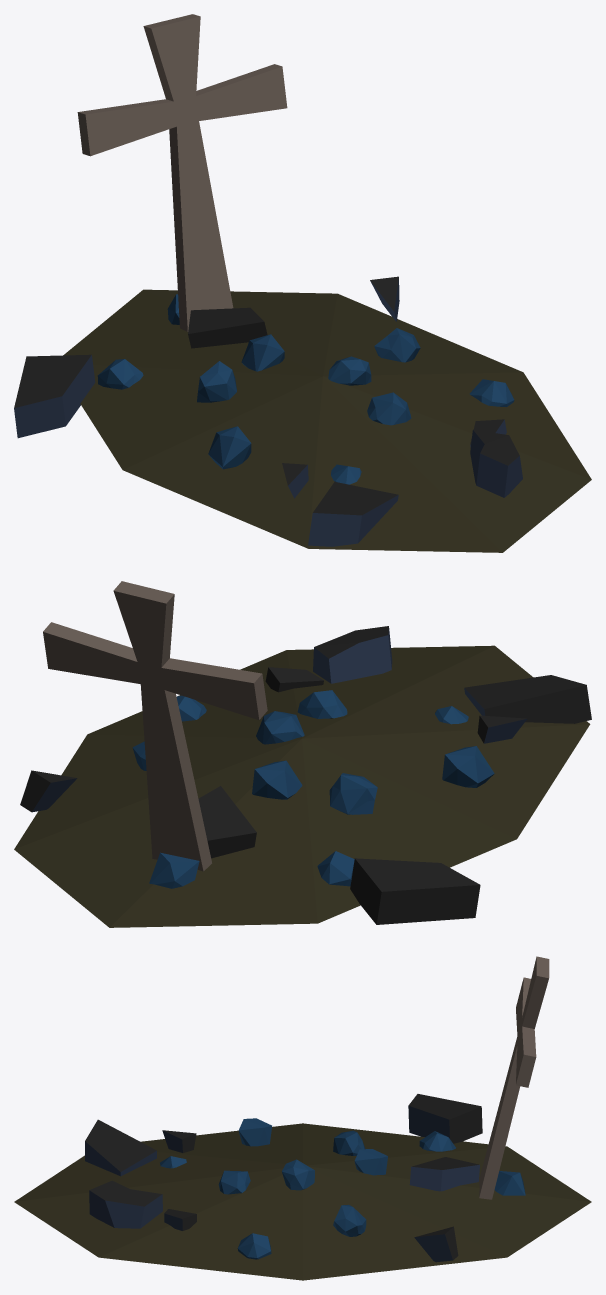
File: Grave_1_MY.fbx
3 renders of one model, top to bottom at view 1: azimuth 30°, elevation 25°; view 2: azimuth 150°, elevation 25°; view 3: azimuth 270°, elevation 25°, orthographic. The views are drawn at different scales.
Visible parts, largest first — view 1: Plane.008; view 2: Plane.008; view 3: Plane.008.
Boxes of the visible parts, x1,y1,x2,y2 form: Plane.008: (14, 14, 591, 552); Plane.008: (14, 581, 591, 927); Plane.008: (14, 956, 591, 1280).
Bounding box in the file's own units: 348 × 232 × 494.
